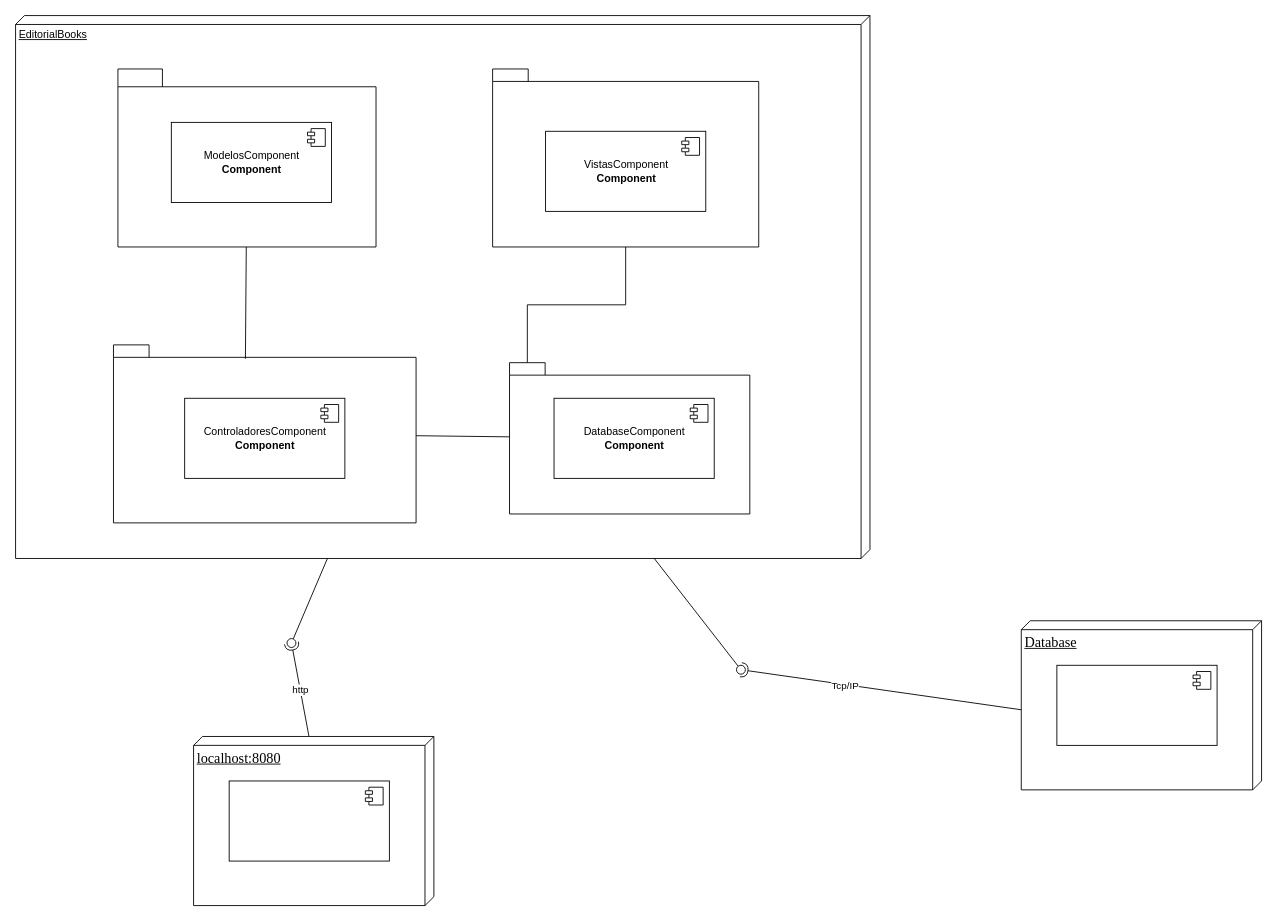
Some shapes in this 1277 by 921 pixel diagram are drawn without their labels. The centre of each missing label's shape, as x and y in pixels:
Base de datos en mySql Component: [1136,704]
Front end Component: [308,820]
